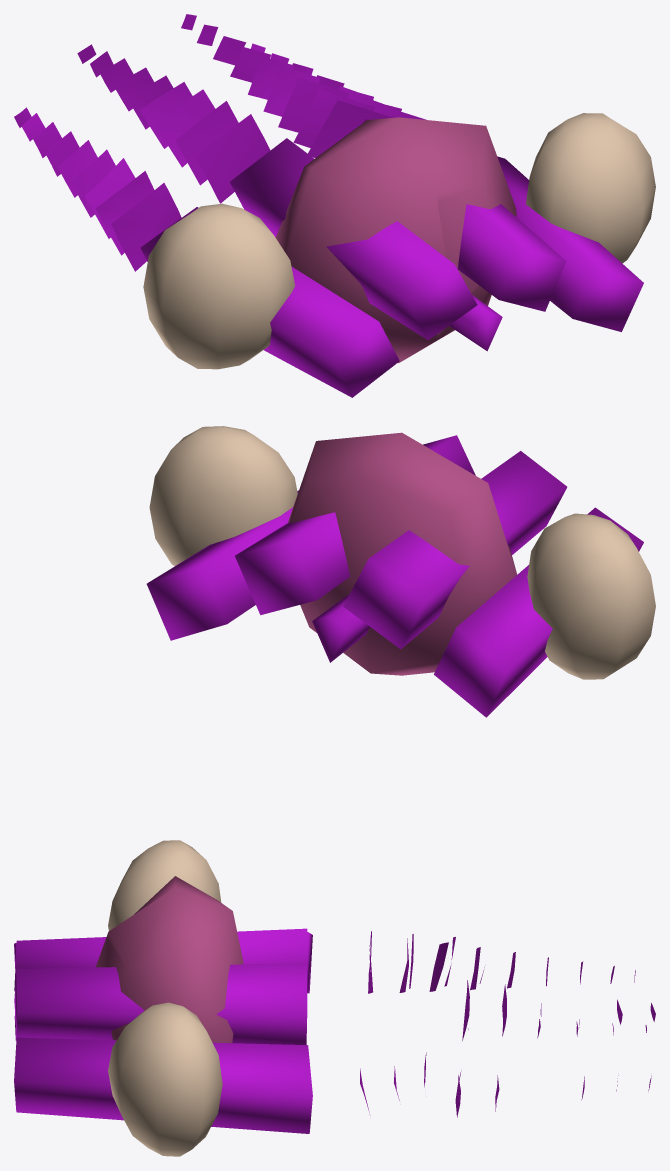
The model's file is ship_1.gltf.
The picture shows the model from 3 angles, top to bottom: view 1: azimuth 30°, elevation 25°; view 2: azimuth 150°, elevation 25°; view 3: azimuth 270°, elevation 25°; orthographic projection. The views are drawn at different scales.
Visible parts, largest first — view 1: gtlf; view 2: gtlf; view 3: gtlf.
Boxes of the visible parts, x1,y1,x2,y2 form: gtlf: (14, 14, 655, 397); gtlf: (146, 426, 655, 717); gtlf: (14, 840, 655, 1156).
Size of the model in its own units: 1.68 by 0.8002 by 2.1.
